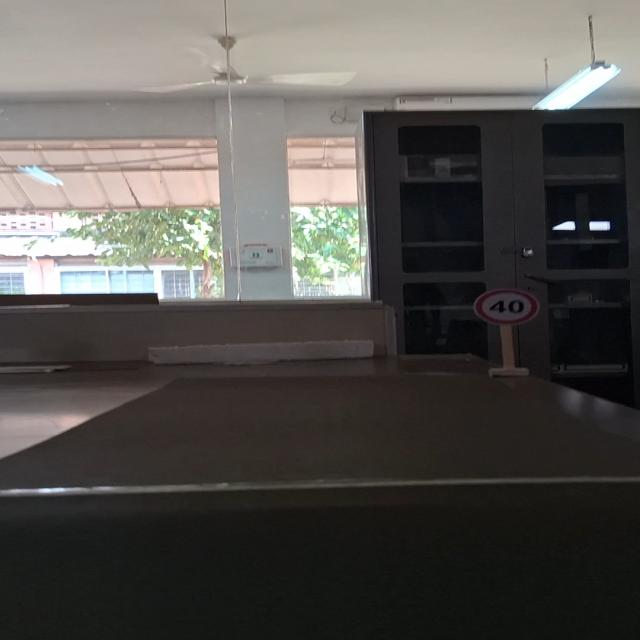Speed40: (474, 287, 539, 329)
